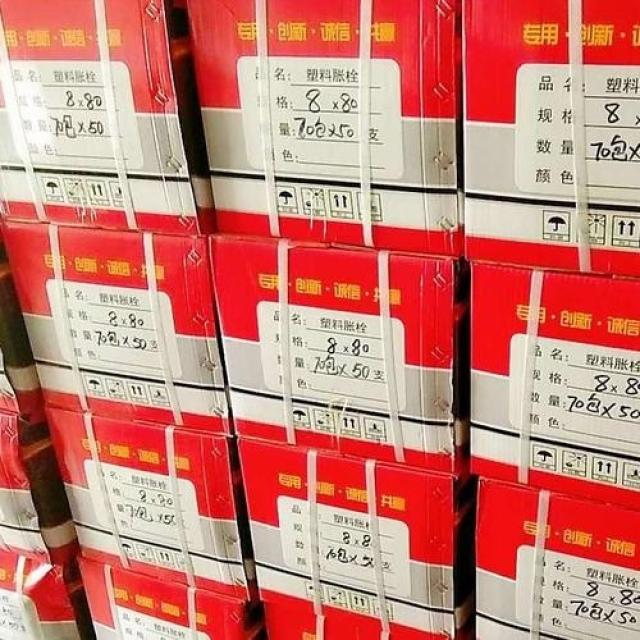box: (187, 0, 464, 259), (209, 232, 470, 474), (0, 0, 216, 238), (1, 219, 235, 438), (461, 0, 639, 279), (237, 437, 477, 639), (468, 263, 639, 509), (45, 407, 257, 601), (475, 477, 638, 639), (77, 556, 267, 638), (1, 404, 81, 566), (0, 550, 96, 639), (0, 230, 45, 416), (263, 600, 411, 639)
